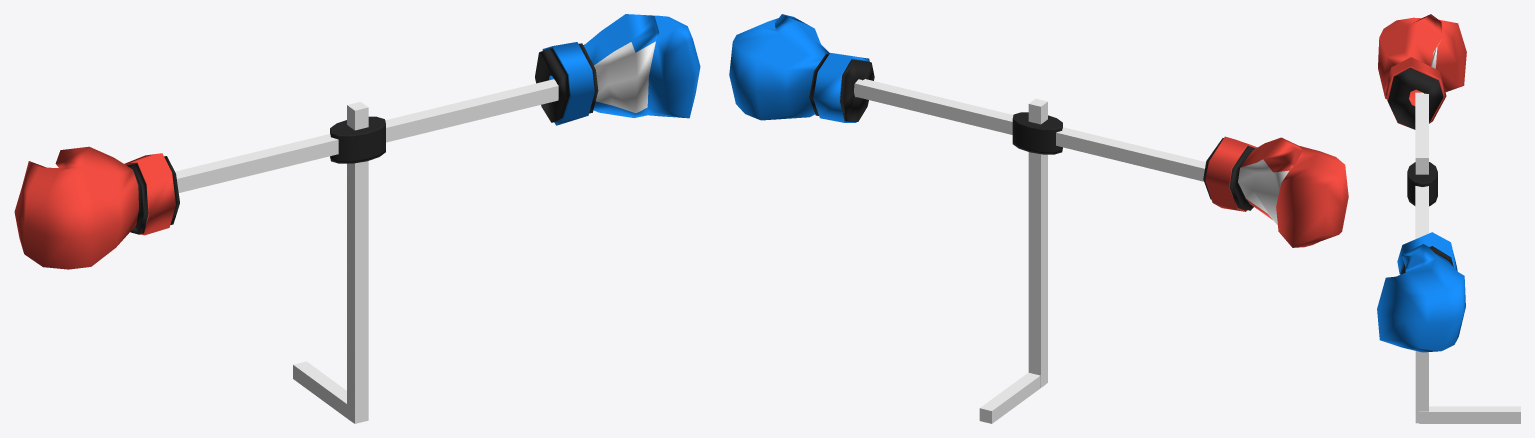
Rendered from Glove_Rotation1.fbx.
3 renders of one model, left to right at view 1: azimuth 30°, elevation 25°; view 2: azimuth 150°, elevation 25°; view 3: azimuth 270°, elevation 25°, orthographic. The views are drawn at different scales.
Visible parts, largest first — view 1: Punching_Glove_Red.004, Punching_Glove_Red.003, Rotation_Support, Extended_Hook, Ground_Hook; view 2: Punching_Glove_Red.003, Punching_Glove_Red.004, Rotation_Support, Extended_Hook, Ground_Hook; view 3: Punching_Glove_Red.003, Punching_Glove_Red.004, Rotation_Support, Ground_Hook, Extended_Hook.
Boxes of the visible parts, bbox=[...] form: Punching_Glove_Red.004: bbox=[14, 146, 179, 269]; Punching_Glove_Red.003: bbox=[535, 14, 700, 125]; Rotation_Support: bbox=[175, 79, 558, 192]; Extended_Hook: bbox=[347, 102, 368, 423]; Ground_Hook: bbox=[293, 361, 352, 422]; Punching_Glove_Red.003: bbox=[729, 14, 874, 122]; Punching_Glove_Red.004: bbox=[1203, 136, 1348, 247]; Rotation_Support: bbox=[854, 79, 1205, 181]; Extended_Hook: bbox=[1028, 98, 1047, 387]; Ground_Hook: bbox=[979, 372, 1044, 423]; Punching_Glove_Red.003: bbox=[1377, 232, 1465, 352]; Punching_Glove_Red.004: bbox=[1378, 14, 1466, 129]; Rotation_Support: bbox=[1407, 92, 1437, 239]; Ground_Hook: bbox=[1419, 406, 1520, 423]; Extended_Hook: bbox=[1415, 152, 1428, 423].
Size of the model in its own units: 424 by 205 by 92.73.
